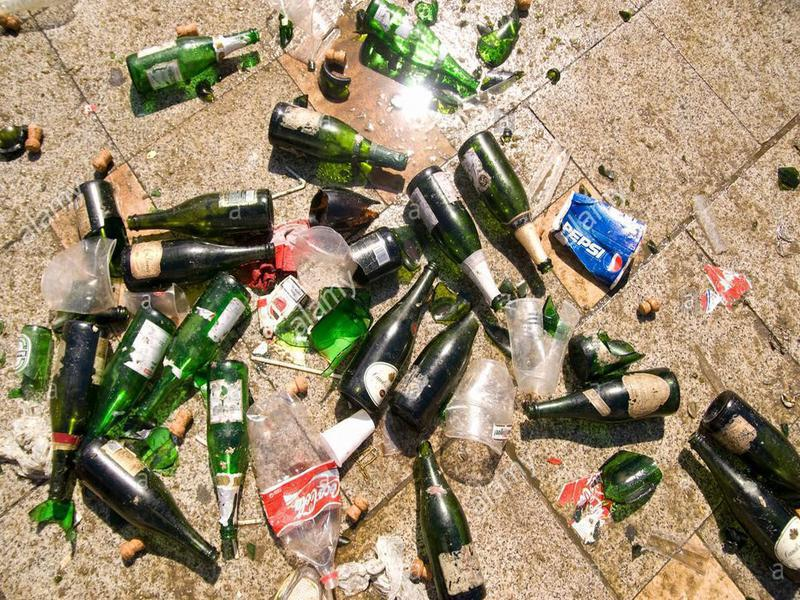bottle: (123, 269, 256, 434), (243, 389, 346, 595), (72, 435, 220, 570), (335, 258, 442, 419), (403, 163, 511, 316), (454, 126, 558, 280), (408, 434, 493, 600), (43, 313, 112, 516), (194, 356, 265, 551), (389, 310, 487, 437), (520, 365, 685, 437), (265, 99, 414, 177), (120, 183, 277, 249), (124, 26, 266, 98), (118, 233, 284, 294)
cup: (552, 182, 648, 295), (316, 409, 378, 467)
